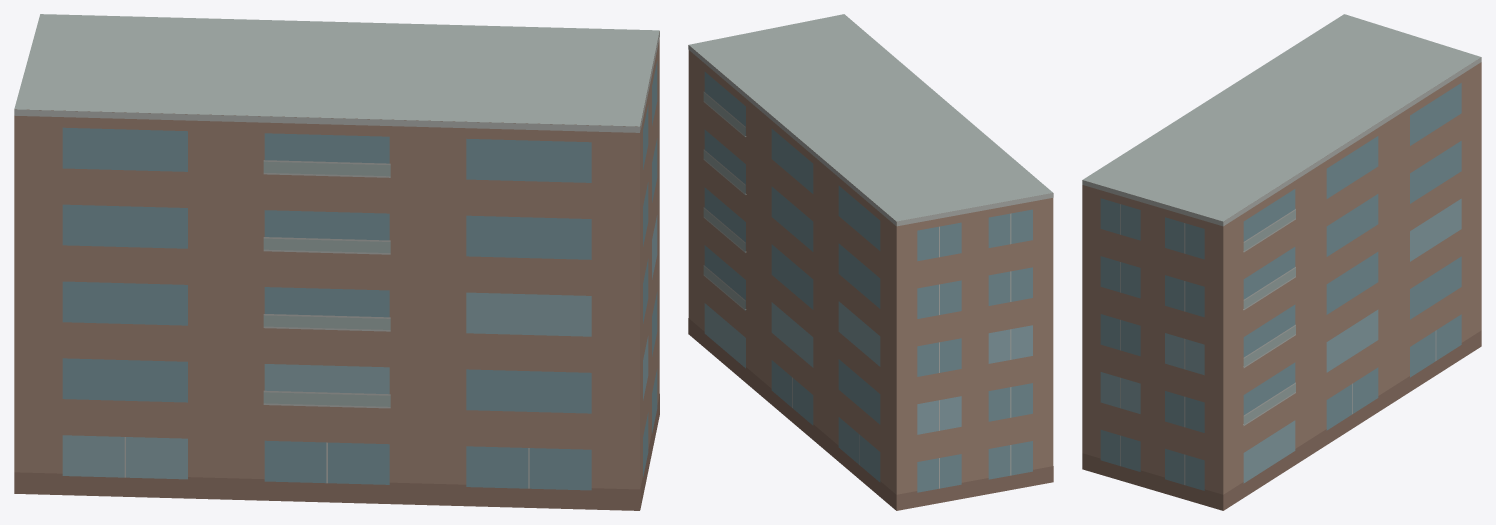
File: survey-upis-33044360.glb
3 views of the same model, side by side, from view 1: azimuth 30°, elevation 25°; view 2: azimuth 150°, elevation 25°; view 3: azimuth 270°, elevation 25° (orthographic). The views are drawn at different scales.
Parts seen in each view (by area): view 1: survey-upis-33044360.tmp; view 2: survey-upis-33044360.tmp; view 3: survey-upis-33044360.tmp.
Boxes of the visible parts, bbox=[...] form: survey-upis-33044360.tmp: bbox=[14, 14, 659, 510]; survey-upis-33044360.tmp: bbox=[688, 14, 1053, 510]; survey-upis-33044360.tmp: bbox=[1082, 14, 1481, 510].
Size of the model in its own units: 22.48 by 14.6 by 18.27.
